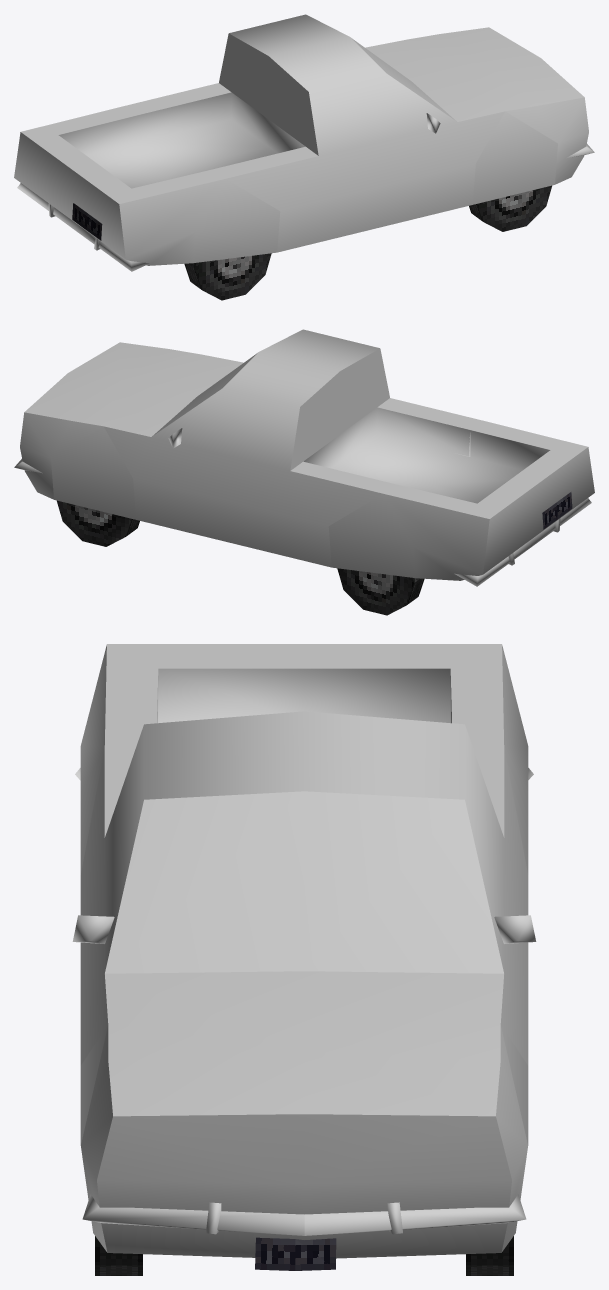
File: TruckCar.fbx
The picture shows the model from 3 angles, top to bottom: view 1: azimuth 30°, elevation 25°; view 2: azimuth 150°, elevation 25°; view 3: azimuth 270°, elevation 25°; orthographic projection. The views are drawn at different scales.
Parts seen in each view (by area): view 1: Car - Truck, Tire.006, Tire.005, LicensePlate.003; view 2: Car - Truck, Tire.007, Tire.008, LicensePlate.003; view 3: Car - Truck, LicensePlate.003, Tire.005, Tire.008.
Part boxes in pixels (box(x1,y1,x2,y2)): Car - Truck: box(14, 14, 594, 271); Tire.006: box(184, 253, 271, 300); Tire.005: box(469, 185, 551, 231); LicensePlate.003: box(72, 203, 102, 240); Car - Truck: box(14, 329, 594, 586); Tire.007: box(337, 568, 424, 615); Tire.008: box(57, 500, 139, 546); LicensePlate.003: box(542, 492, 572, 529); Car - Truck: box(72, 644, 536, 1258); LicensePlate.003: box(255, 1237, 336, 1270); Tire.005: box(95, 1236, 142, 1275); Tire.008: box(466, 1236, 513, 1275).
Bounding box in the file's own units: 587 × 209 × 242.
